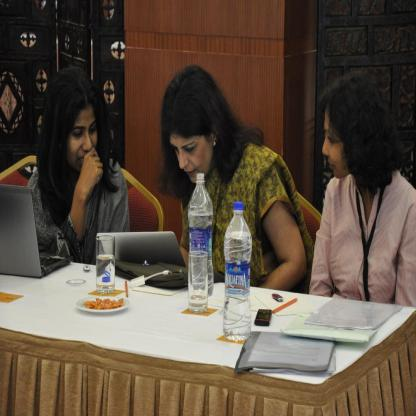board: (0, 185, 74, 281), (97, 224, 178, 286), (224, 202, 251, 340), (189, 174, 214, 295)
